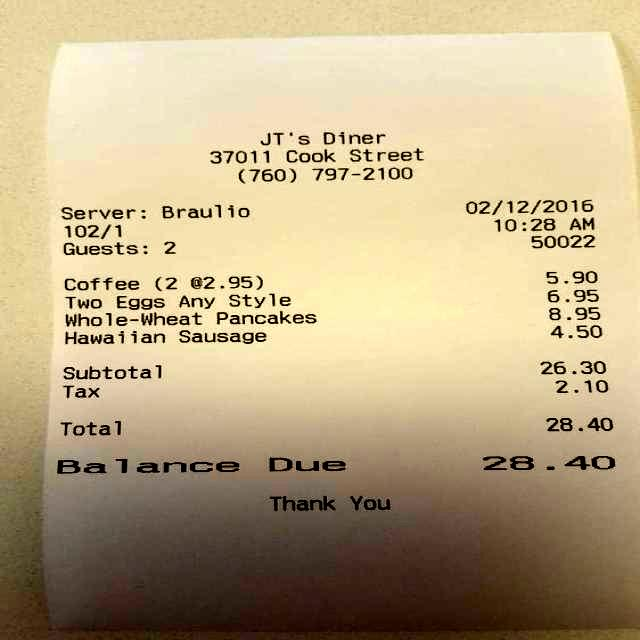Paper: (36, 29, 640, 635)
